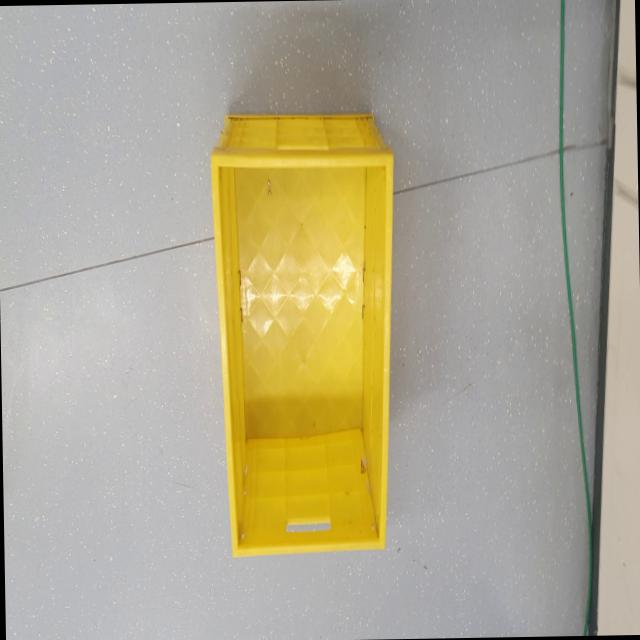box: (198, 87, 404, 574)
